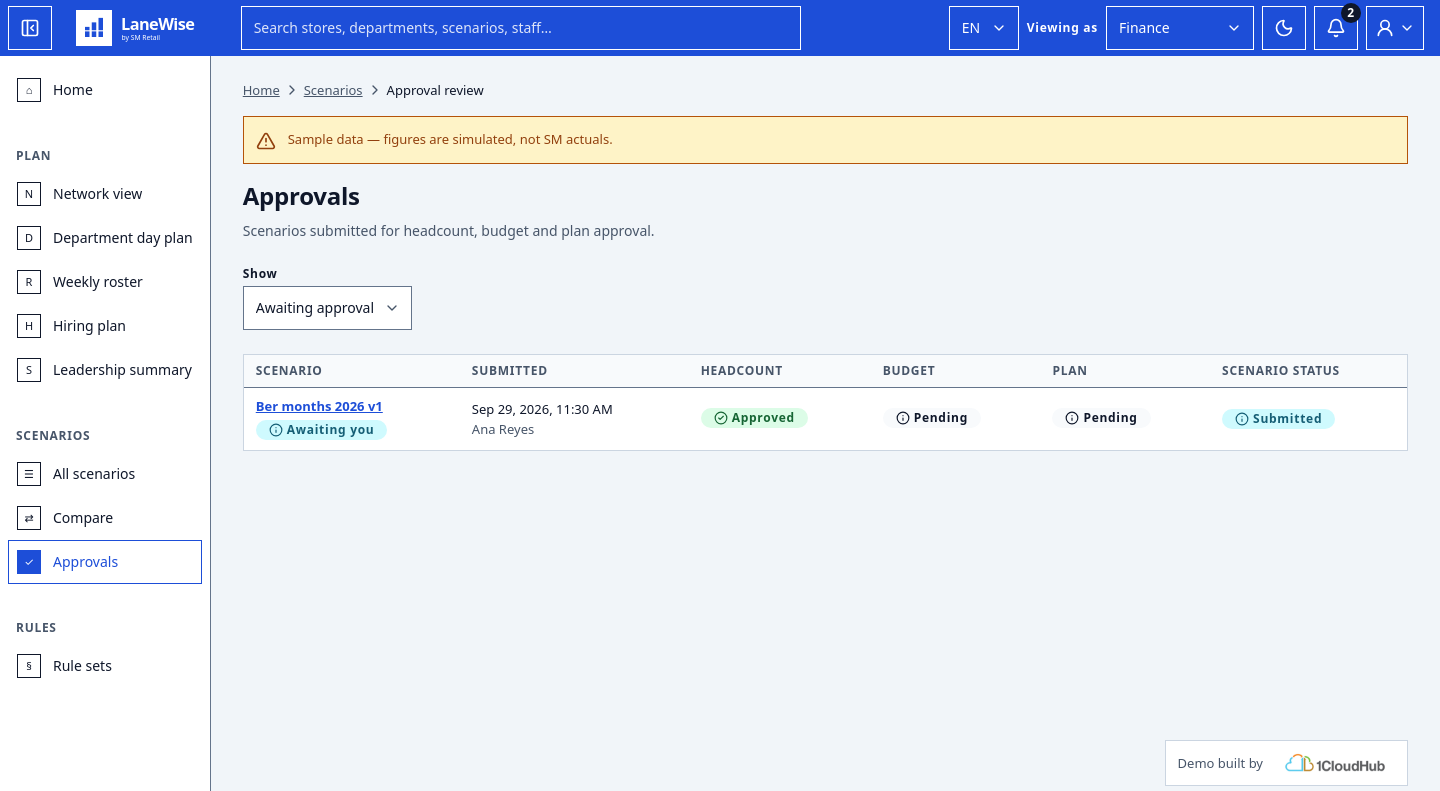
Test case: SCR-033 Approval review — queue › lists submissions with step statuses and opens a review; passes axe
Expected: the text "Awaiting you" is shown, [256,420,387,440]
Expected: the text "Approved" is shown, [701,408,808,428]
Click the link "Ber months 2026 v1": (319, 406) [256,397,383,415]
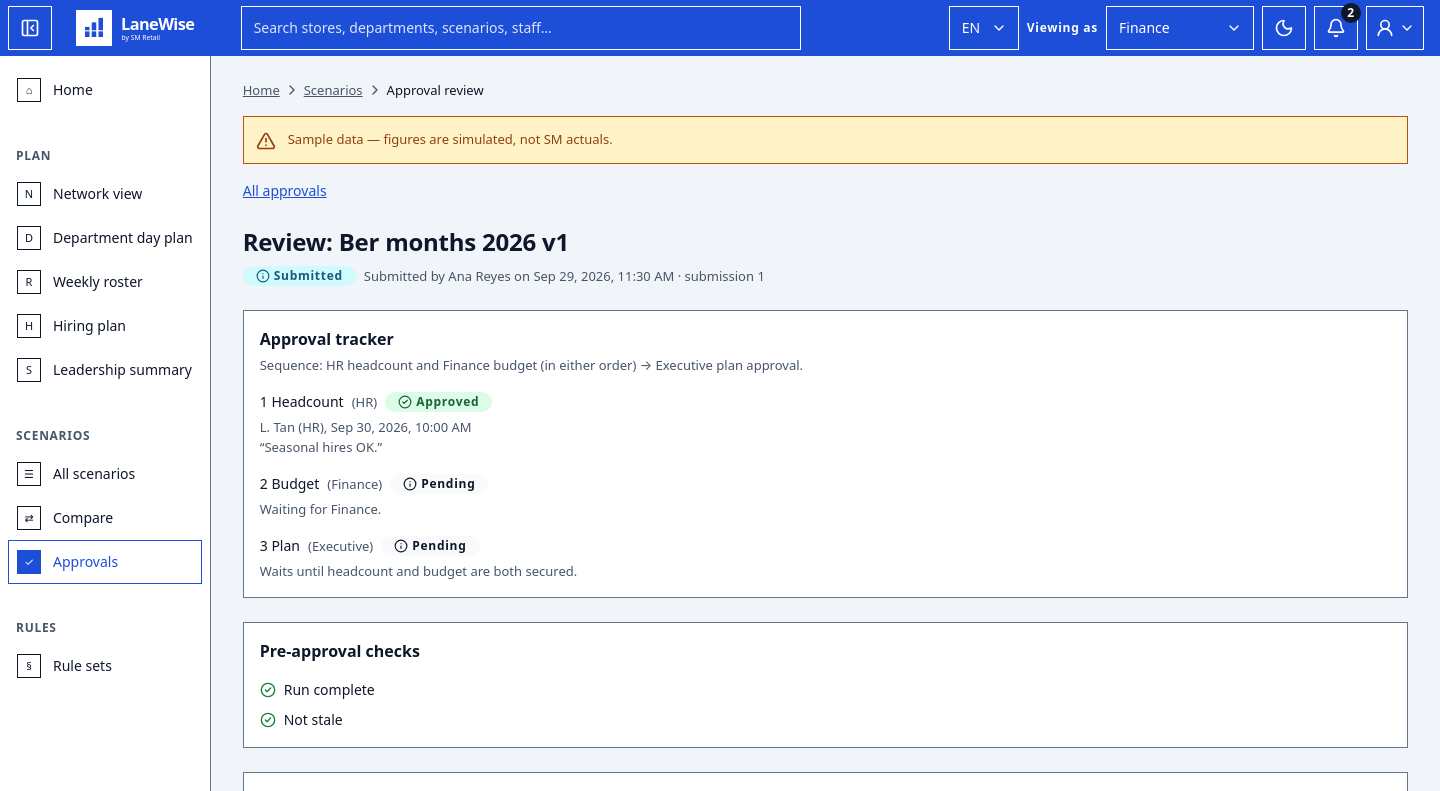
Result: the heading "Review: Ber months 2026 v1" is shown at [243,225,569,258]
